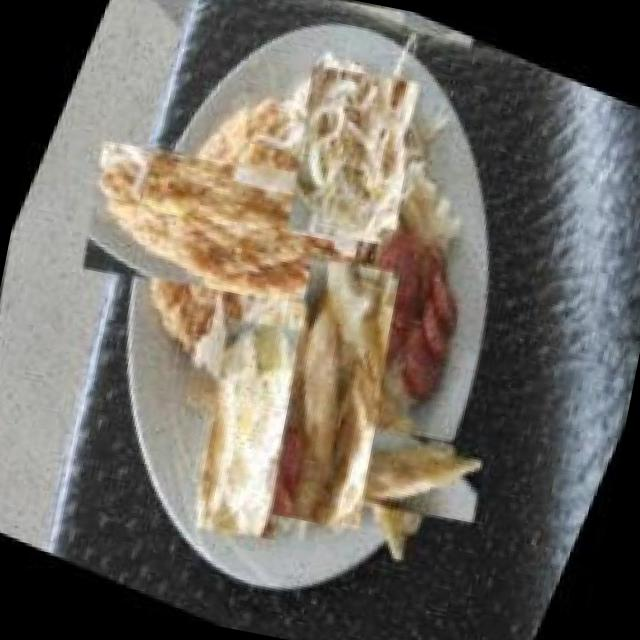chinese_cabbage: (140, 290, 358, 566)
chinese_sausage: (315, 198, 511, 428)
fried_chicken: (59, 59, 393, 392)
fried_dumplings: (205, 224, 463, 558), (284, 363, 501, 580)
mung_bean_sprouts: (244, 32, 461, 276)
